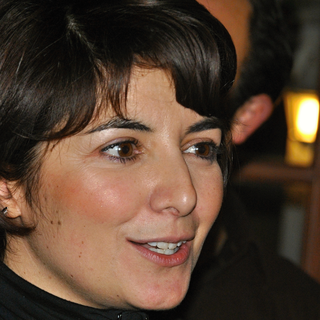eye: (85, 133, 149, 165), (172, 132, 221, 167)
